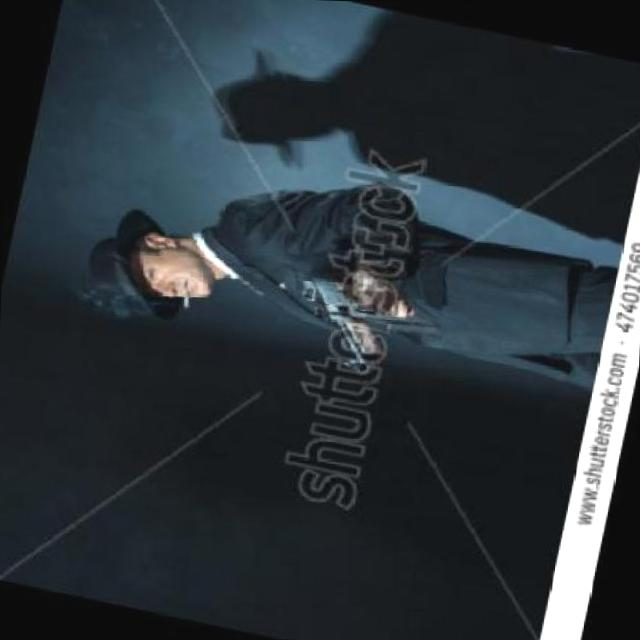cigarette: (180, 286, 193, 308)
